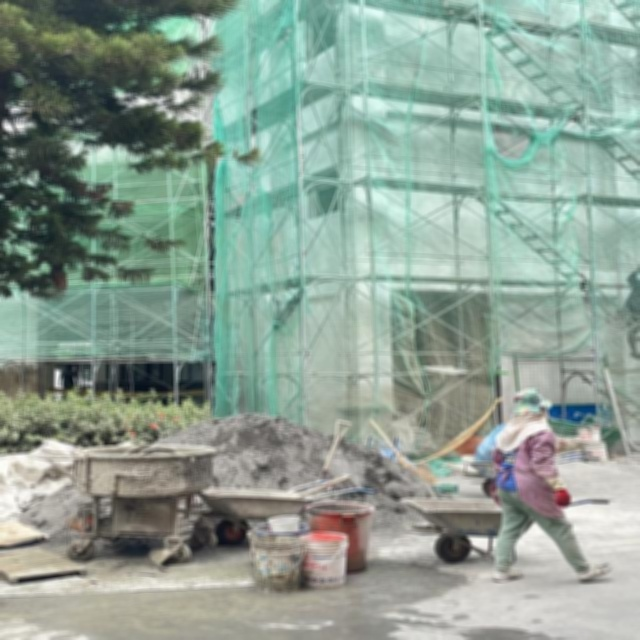Sin_Casco_Mascarrilla: (511, 389, 551, 420)
Sin_Chaleco: (490, 423, 554, 496)
